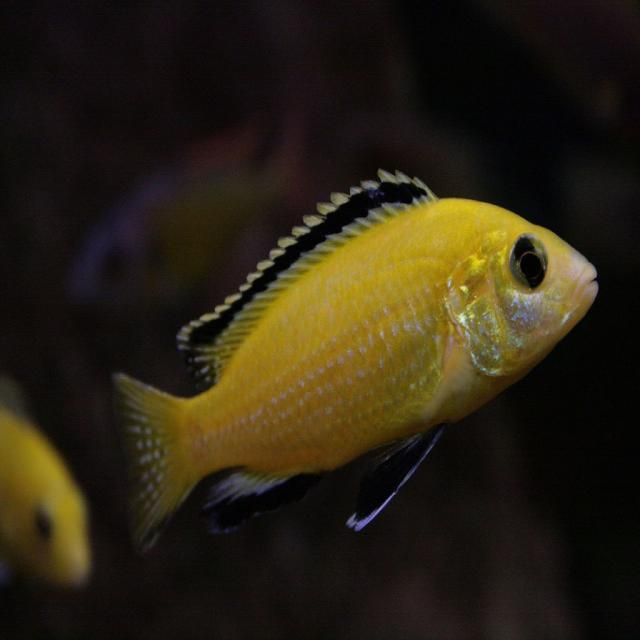YellowCichlid: (116, 158, 605, 526), (3, 378, 92, 602)
